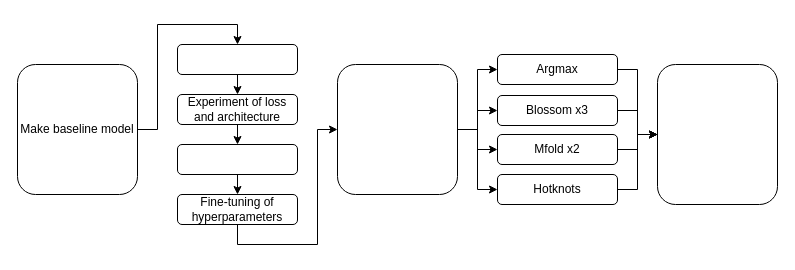
The diagram is 795 pixels wide and 270 high, and some of its shapes have lost their labels. The centre of each missing label's shape, as x and y in pixels:
"Build final pipeline" belongs at point (717, 134).
"Compare baseline, large and multi-task" belongs at point (237, 159).
"Test different input formats" belongs at point (237, 59).
"Train final model end--to-end on full train set" belongs at point (397, 129).
